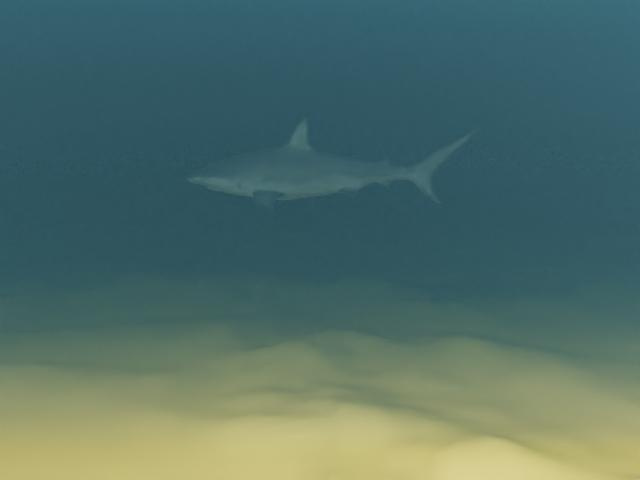Carribean Shark.001: (186, 116, 481, 213)
